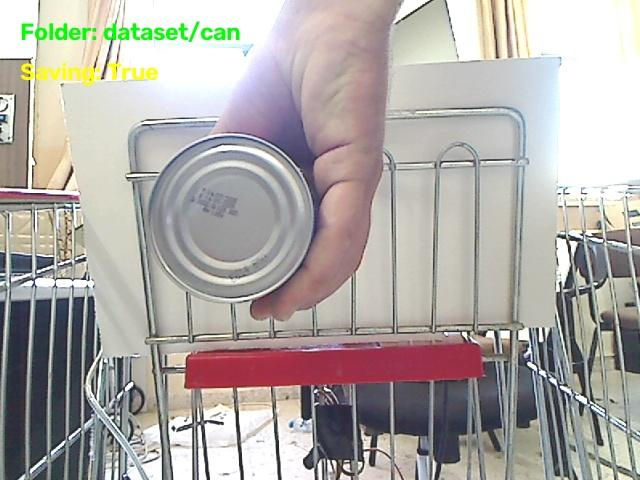can: (149, 134, 313, 301)
